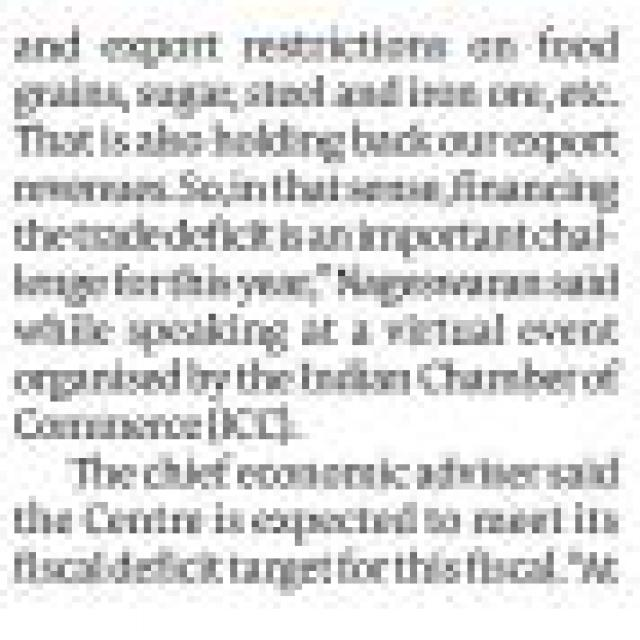paper: (7, 6, 640, 640)
